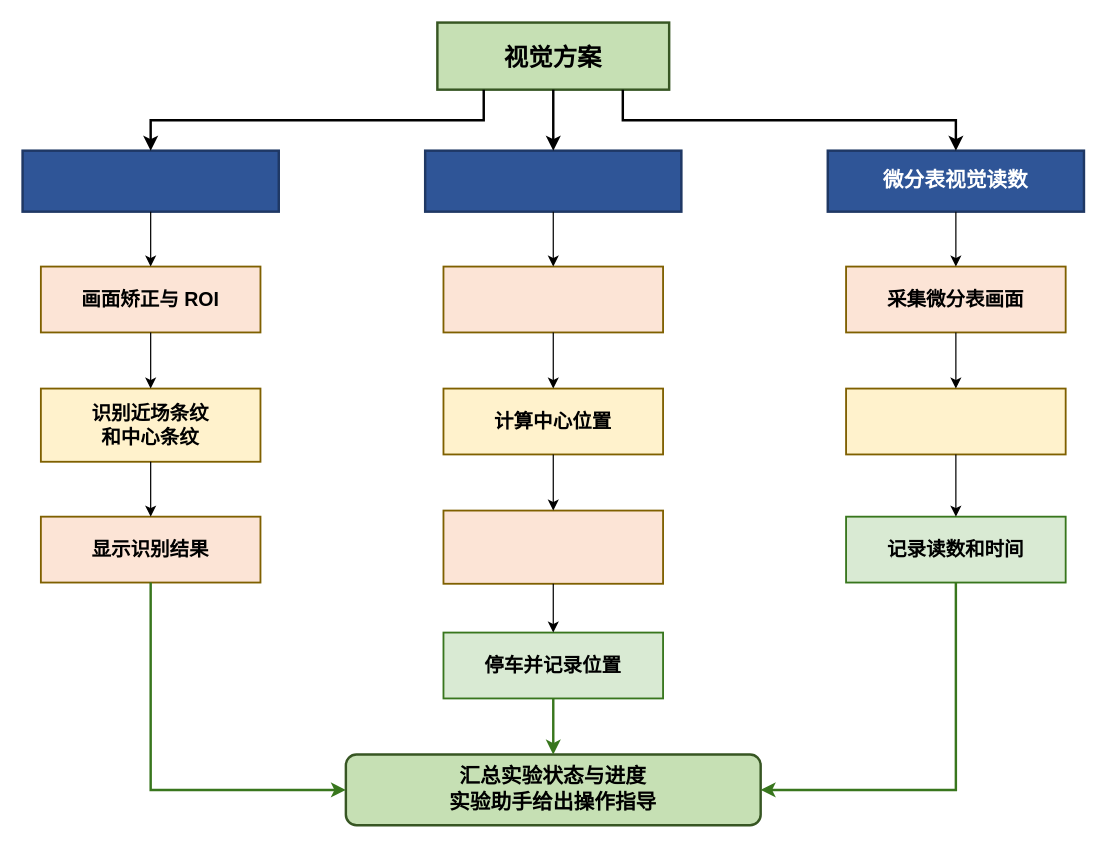
Some shapes in this 1105 by 847 pixel diagram are drawn without their labels. The centre of each missing label's shape, as x and y in pixels:
"中心条纹定位" belongs at (552,180).
"干涉条纹识别" belongs at (150,180).
"自动寻找并对准中心" belongs at (552,546).
"识别中心条纹" belongs at (552,299).
"识别并确认读数" belongs at (955,421).
